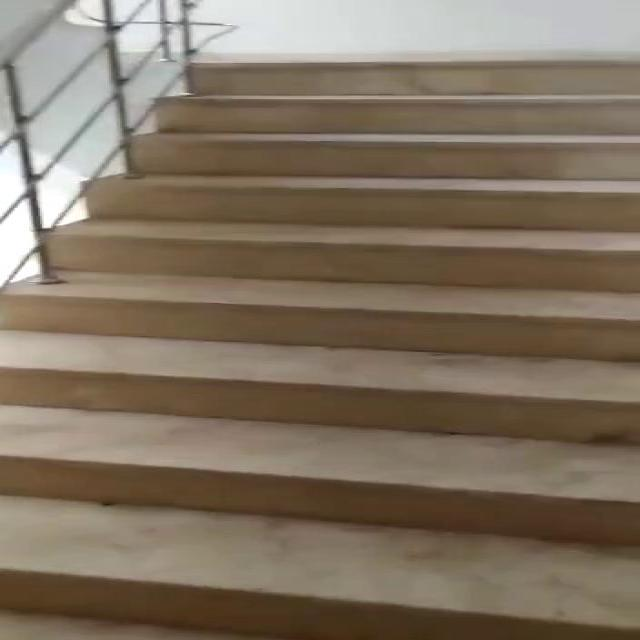stair: (4, 53, 640, 640)
